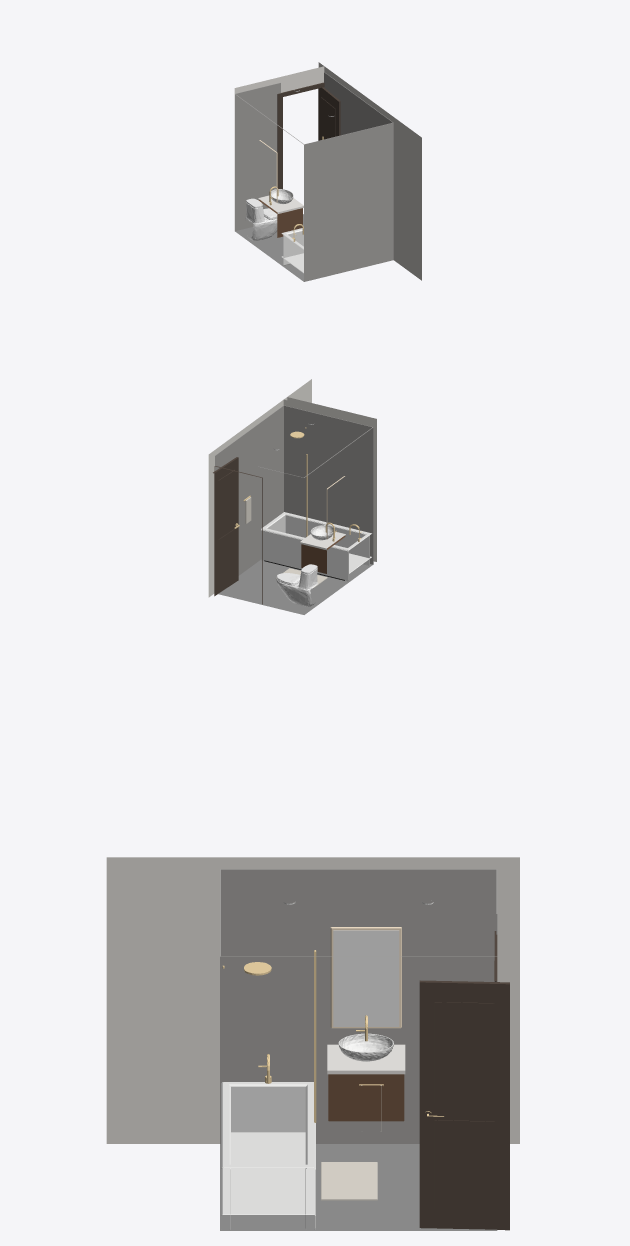
The model's file is CBATH.glb.
3 renders of one model, top to bottom at view 1: azimuth 30°, elevation 25°; view 2: azimuth 150°, elevation 25°; view 3: azimuth 270°, elevation 25°, orthographic. The views are drawn at different scales.
Parts seen in each view (by area): view 1: WEB_CBATH; view 2: WEB_CBATH; view 3: WEB_CBATH.
Boxes of the visible parts, box(x1,y1,x2,y2) form: WEB_CBATH: box(234, 62, 421, 281); WEB_CBATH: box(208, 379, 376, 614); WEB_CBATH: box(106, 857, 519, 1230).
Bounding box in the file's own units: 9.09 × 2.5 × 3.3.
